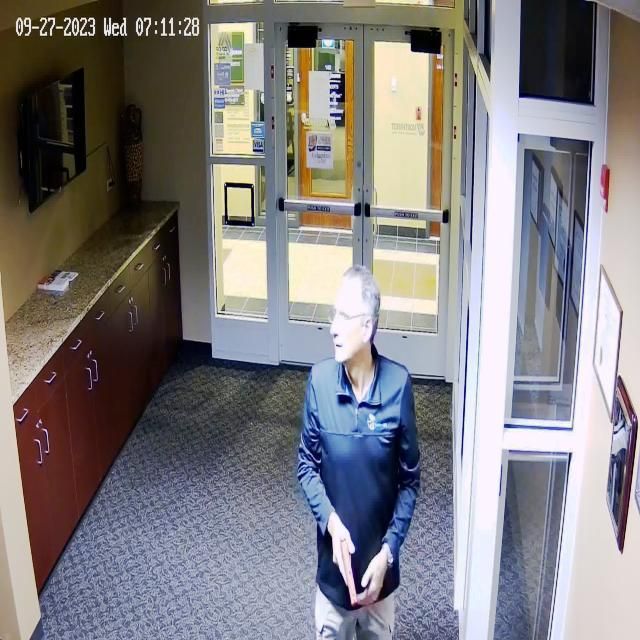Gun: (325, 530, 374, 611)
